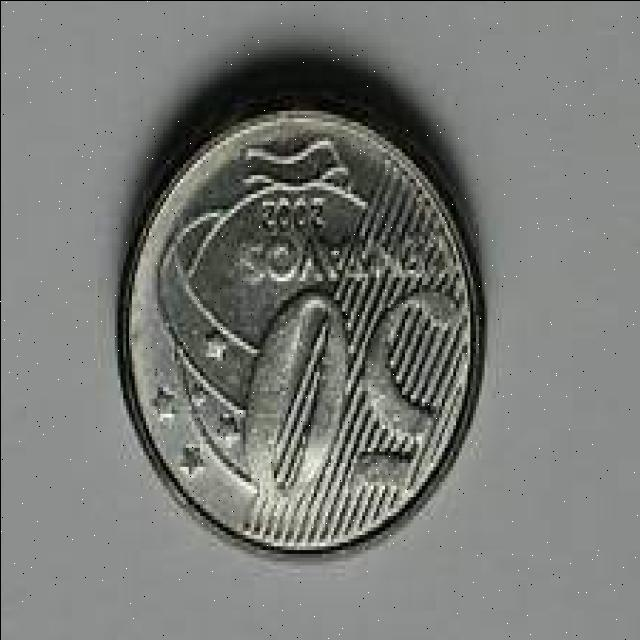50 cent: (112, 64, 485, 570)
